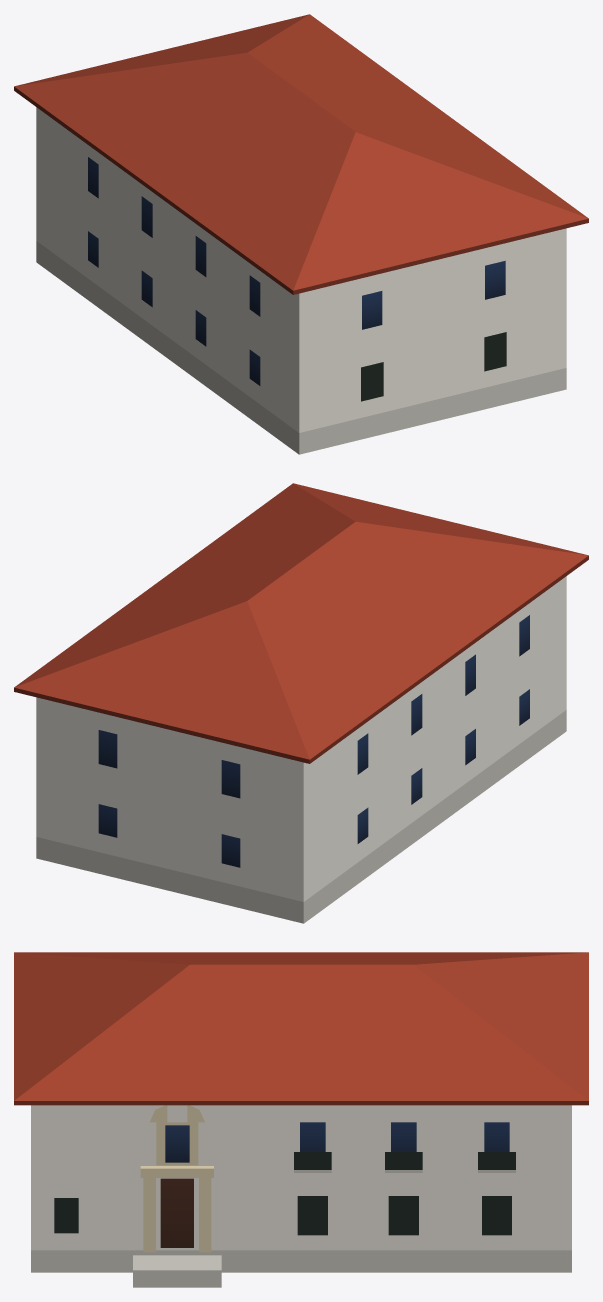
Rendered from admin.glb.
3 renders of one model, top to bottom at view 1: azimuth 30°, elevation 25°; view 2: azimuth 150°, elevation 25°; view 3: azimuth 270°, elevation 25°, orthographic. The views are drawn at different scales.
Visible parts, largest first — view 1: Admin; view 2: Admin; view 3: Admin.
Boxes of the visible parts, x1,y1,x2,y2 form: Admin: (14, 14, 588, 454); Admin: (14, 483, 588, 923); Admin: (14, 952, 588, 1287).
Bounding box in the file's own units: 16.69 × 11.96 × 25.91.
